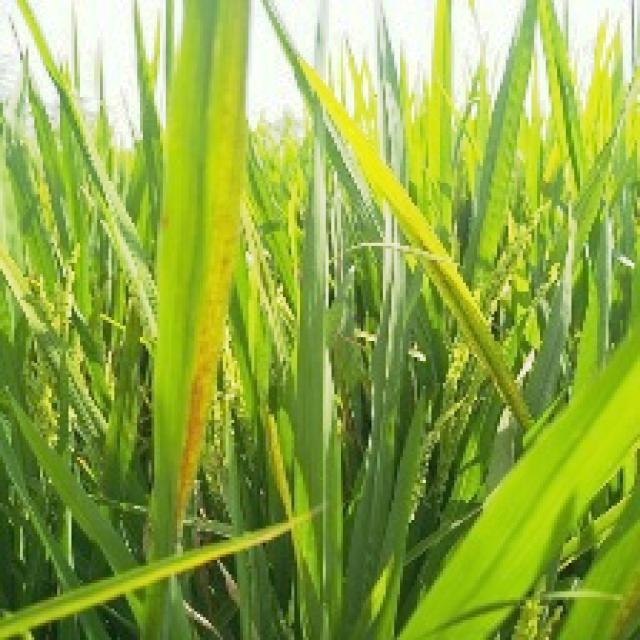health: (292, 430, 640, 640)
